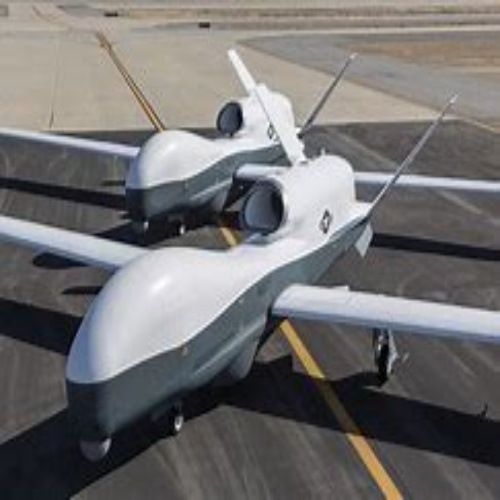uav49: (7, 49, 304, 210)
uav50: (1, 86, 499, 458)
